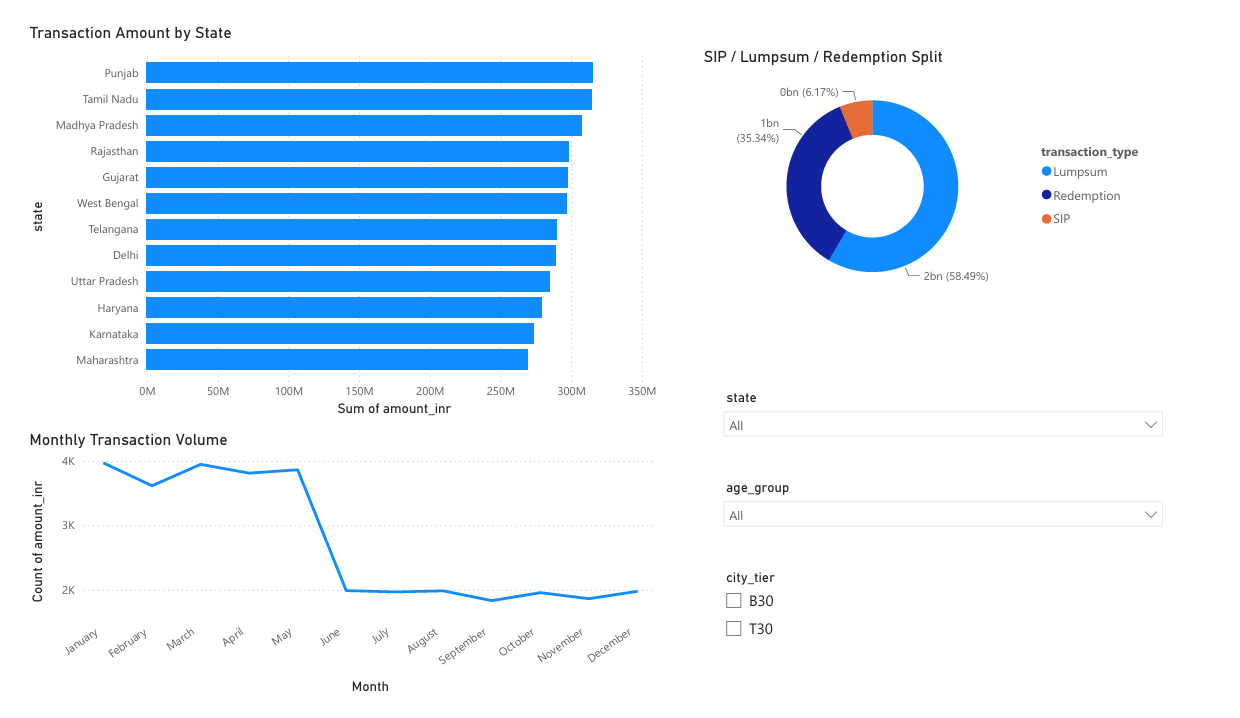

What the dashboard file says about the page in this screenshot:
{"tool":"powerbi","page":{"name":"Investor Analytics","canvas":[1280,720],"ordinal":3},"visuals":[{"type":"clusteredBarChart","title":"Transaction Amount by State","fields":{"Category":["08_investor_transactions.state"],"Y":["Sum(08_investor_transactions.amount_inr)"]},"box":[10,0,678,424],"z":0},{"type":"donutChart","title":"SIP / Lumpsum / Redemption Split","fields":{"Category":["08_investor_transactions.transaction_type"],"Y":["Sum(08_investor_transactions.amount_inr)"]},"box":[728,26,488,278],"z":1000},{"type":"lineChart","title":"Monthly Transaction Volume","fields":{"Category":["08_investor_transactions.transaction_date.Variation.Date Hierarchy.Month"],"Y":["CountNonNull(08_investor_transactions.amount_inr)"]},"box":[10,434,678,286],"z":2000},{"type":"slicer","fields":{"Values":["08_investor_transactions.state"]},"box":[744,386,488,96],"z":3000},{"type":"slicer","fields":{"Values":["08_investor_transactions.age_group"]},"box":[744,482,488,82],"z":4000},{"type":"slicer","fields":{"Values":["08_investor_transactions.city_tier"]},"box":[744,578,366,122],"z":5000}]}

Visuals, with their boxes in screenshot pixels (x1, y1, x2, y2), scaled from the page's 1280x720 canvas onto the 1240x718 screenshot:
"Transaction Amount by State" clusteredBarChart: [x1=10, y1=0, x2=666, y2=423]
"SIP / Lumpsum / Redemption Split" donutChart: [x1=705, y1=26, x2=1178, y2=303]
"Monthly Transaction Volume" lineChart: [x1=10, y1=433, x2=666, y2=717]
slicer - 08_investor_transactions.state: [x1=721, y1=385, x2=1194, y2=481]
slicer - 08_investor_transactions.age_group: [x1=721, y1=481, x2=1194, y2=562]
slicer - 08_investor_transactions.city_tier: [x1=721, y1=576, x2=1075, y2=698]
